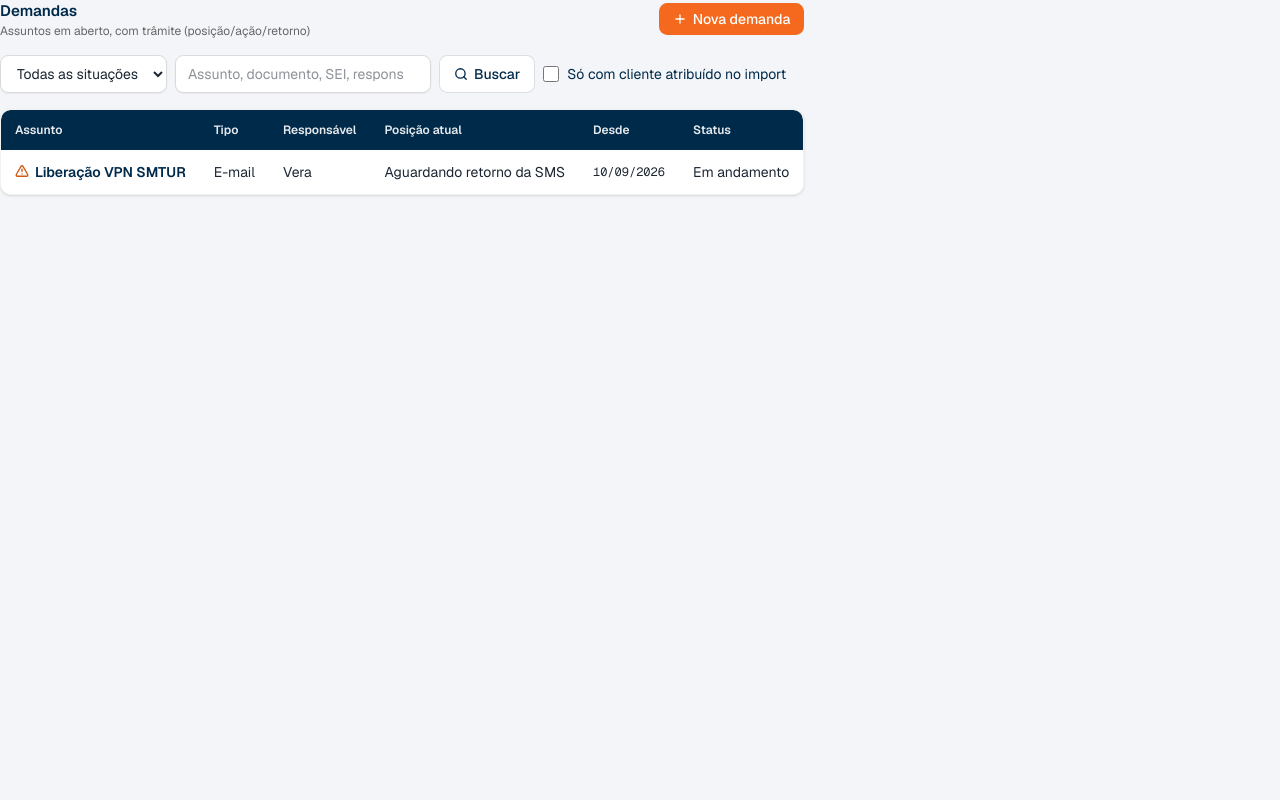
it: ListaDemandas › cria uma demanda no cliente da ficha
The width and height of the screenshot is (1280, 800).
Step 1. Click the button "Nova demanda" → (732, 19), box [659, 3, 804, 35]
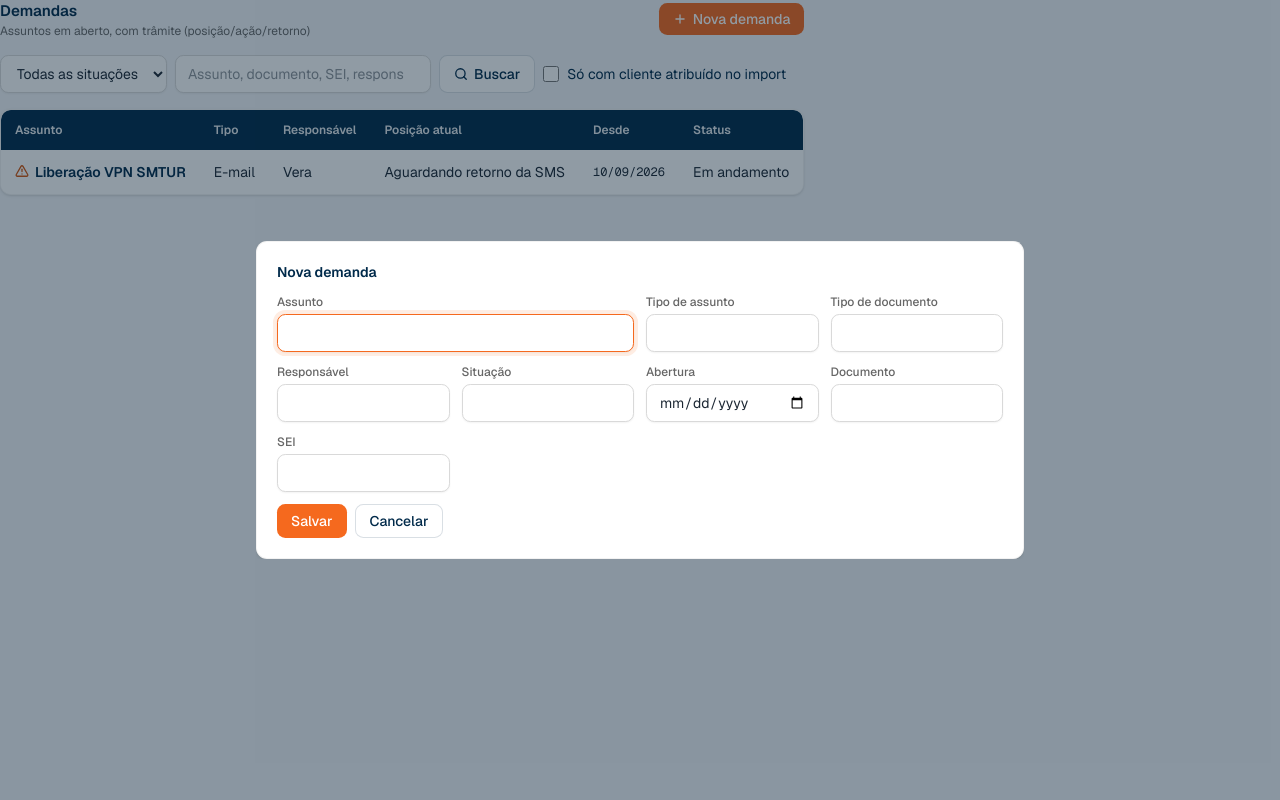
Step 2. Type "Portal HSPM" into the field labelled "Assunto" → (456, 333), box [277, 314, 634, 352]
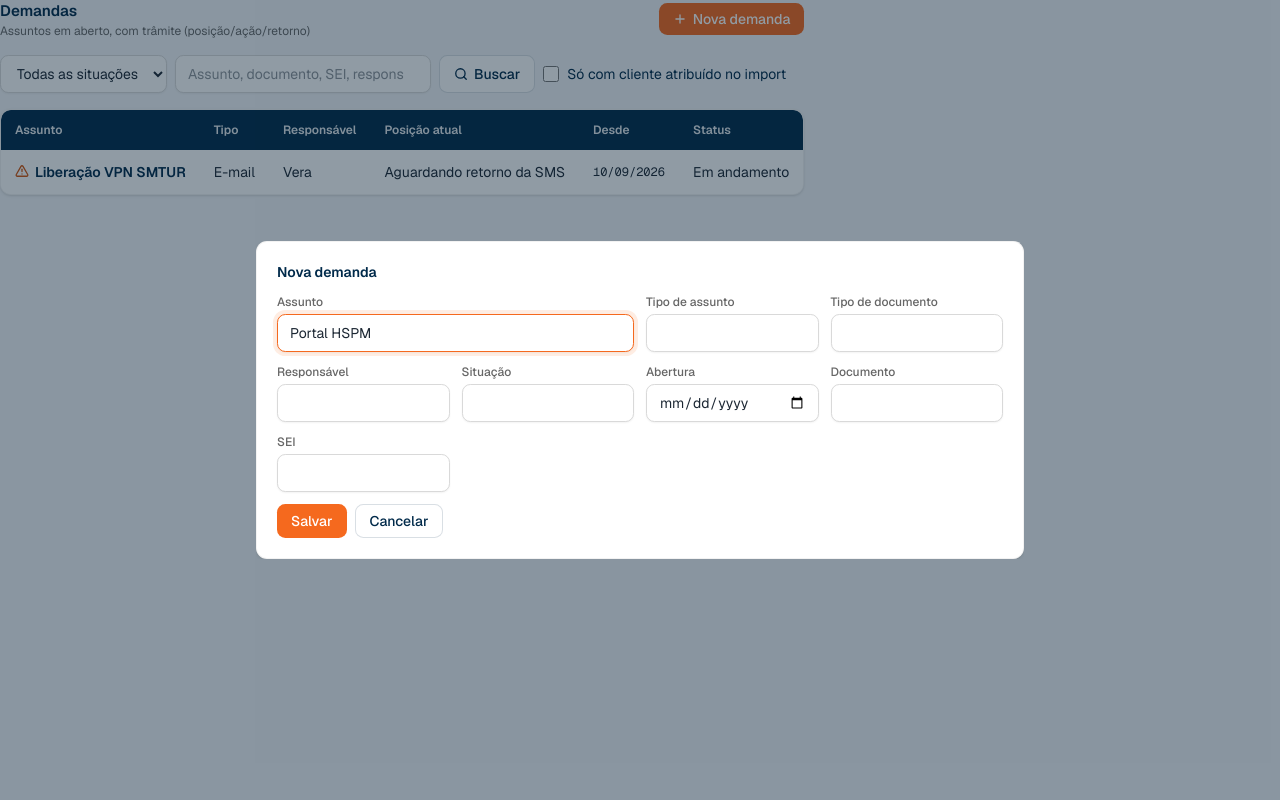
Step 3. Type "Em andamento" into the field labelled "Situação" → (548, 403), box [462, 384, 634, 422]
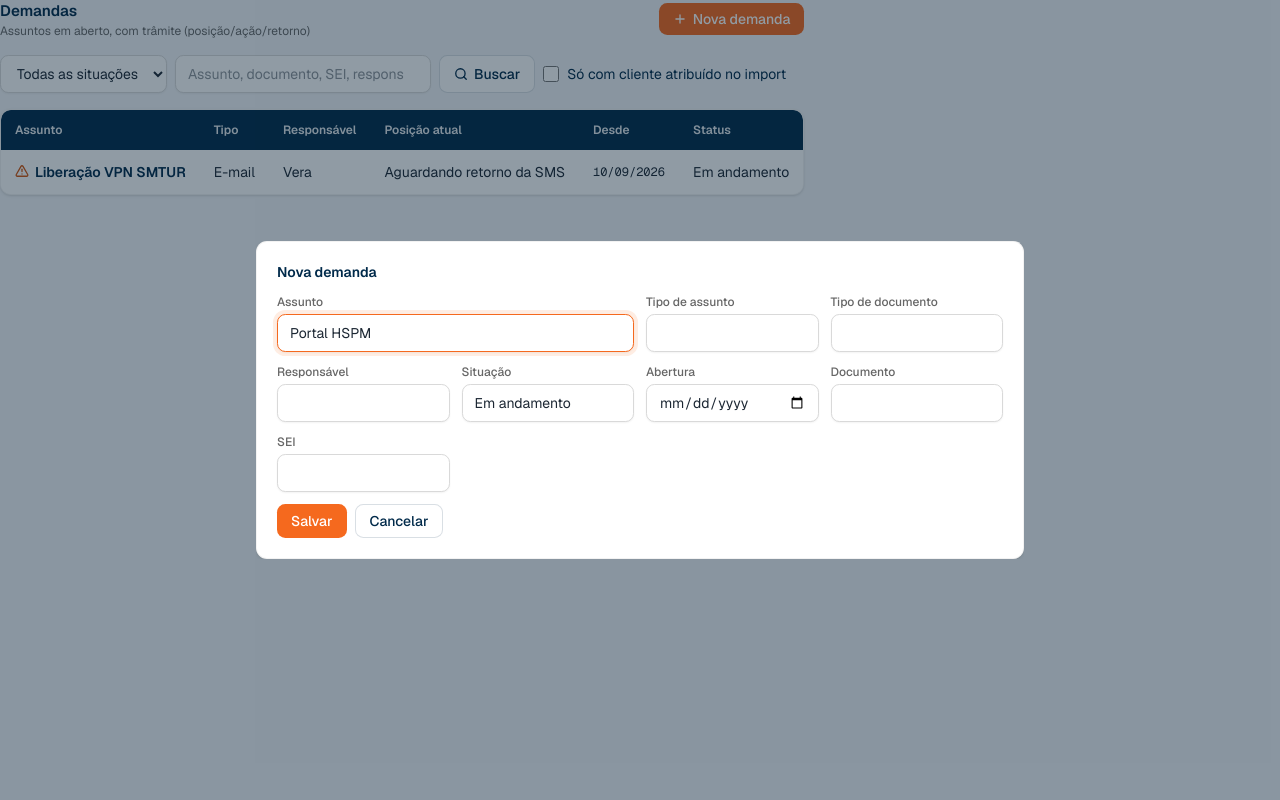
Step 4. Click the button "Salvar" → (312, 521), box [277, 504, 346, 538]
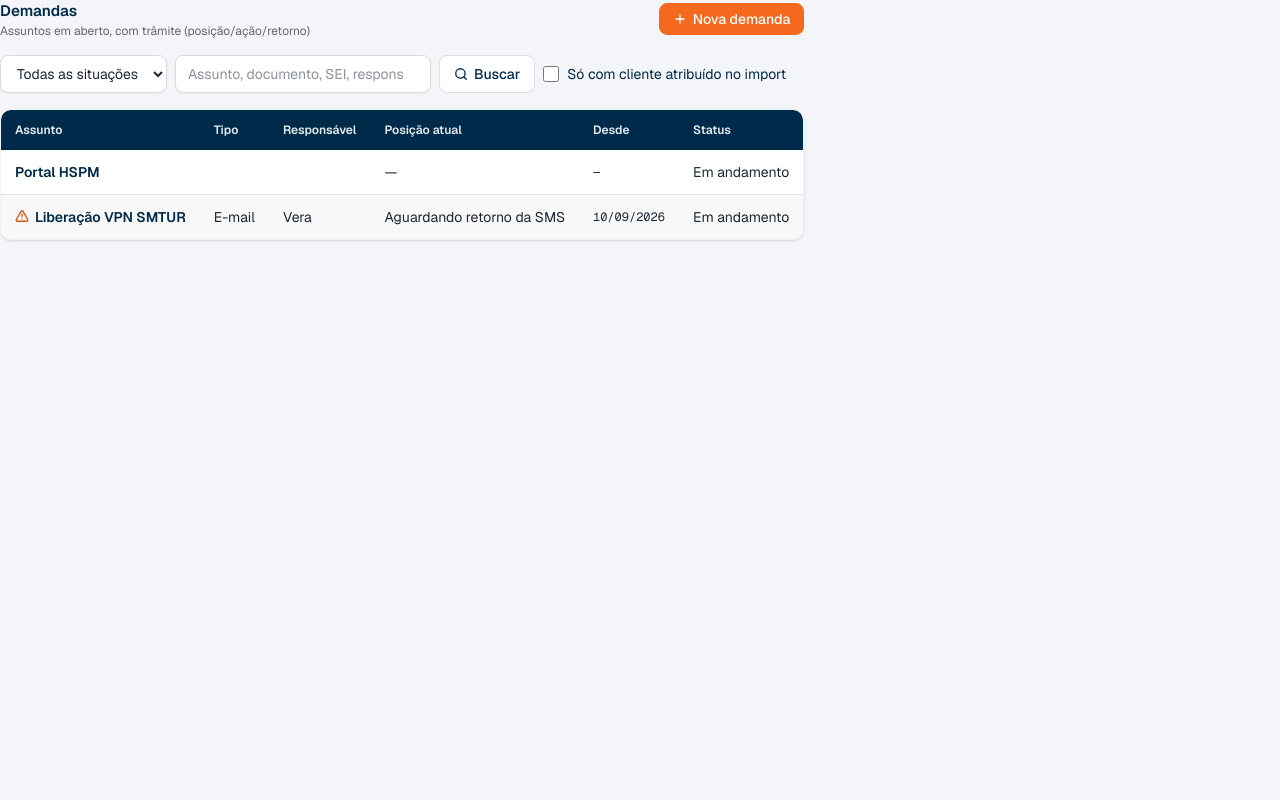
expect the link "Portal HSPM" is shown: met, box [15, 162, 100, 182]
